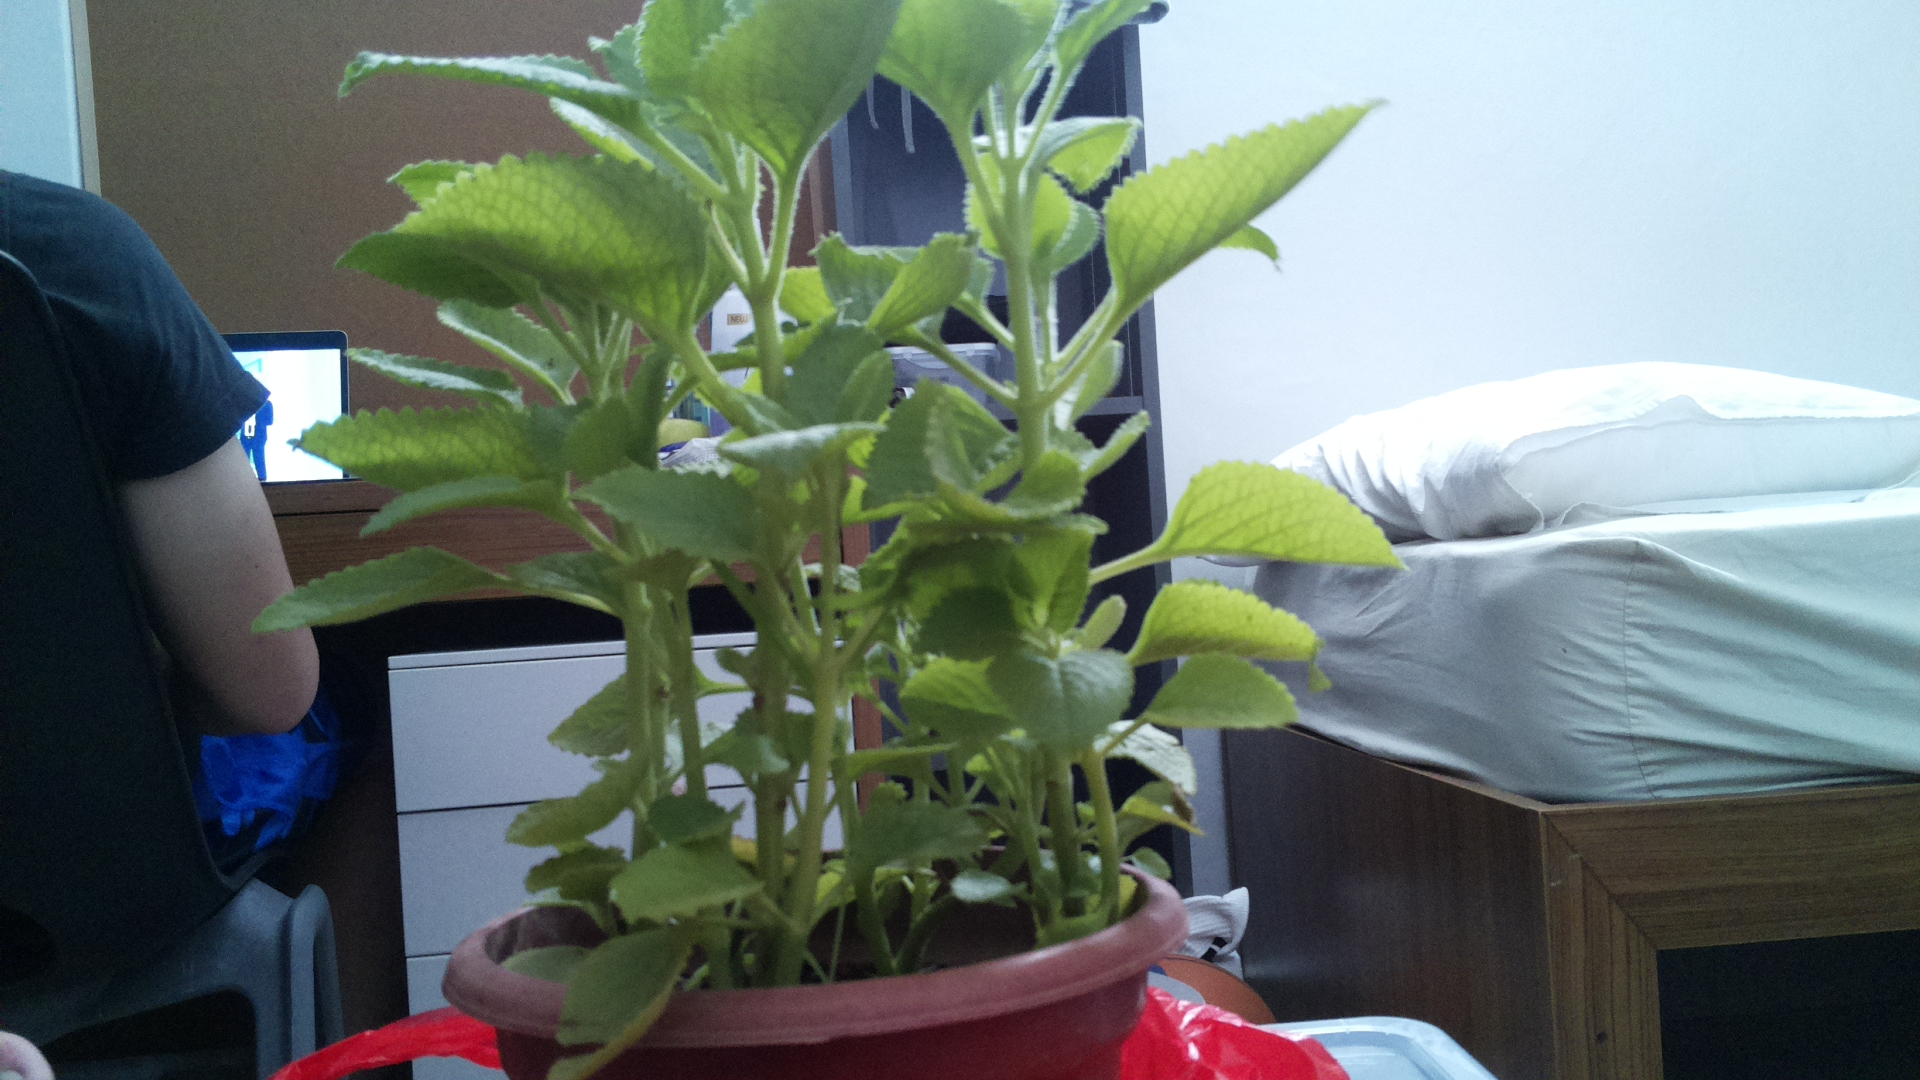leaf: (1091, 91, 1396, 318), (400, 152, 704, 345), (247, 525, 524, 650), (694, 1, 887, 174), (1151, 451, 1407, 574), (909, 390, 1102, 533), (549, 902, 704, 1067), (280, 410, 572, 495), (328, 214, 549, 316), (563, 462, 764, 574), (1116, 638, 1295, 756), (1116, 582, 1333, 675), (539, 645, 719, 752), (996, 626, 1125, 766), (497, 749, 653, 857), (611, 833, 769, 927), (866, 231, 975, 327), (712, 427, 881, 477)
